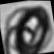correct: (0, 1, 54, 54)
